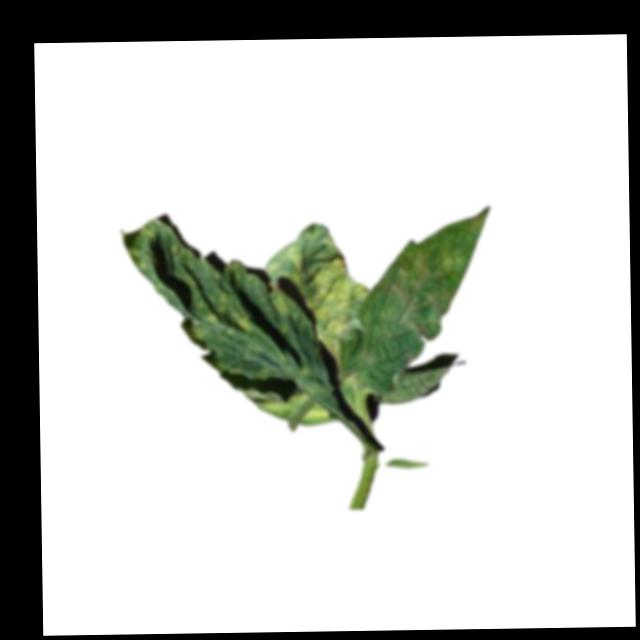Leaf_Mold: (371, 205, 491, 366), (121, 216, 262, 349), (266, 240, 375, 371)
